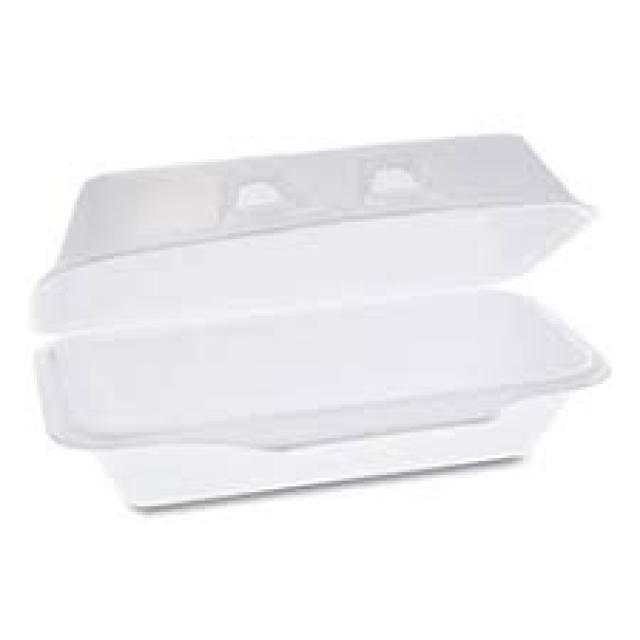styrofoam: (35, 135, 602, 506)
